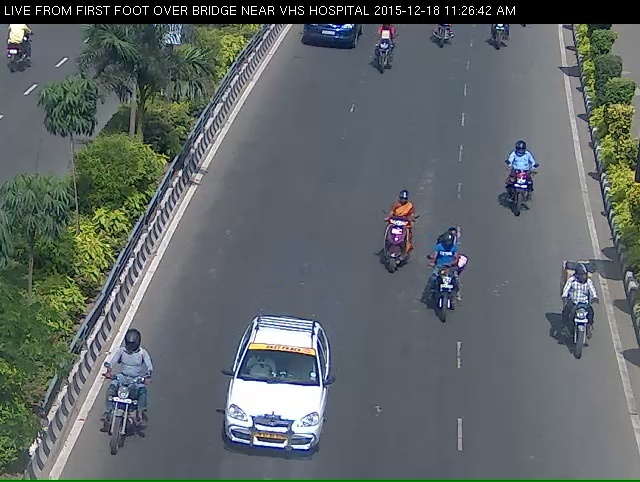Car: (213, 325, 324, 481)
Person: (90, 349, 141, 473), (426, 236, 481, 340), (499, 147, 554, 240), (367, 199, 416, 286), (564, 265, 604, 370), (366, 22, 403, 79)
